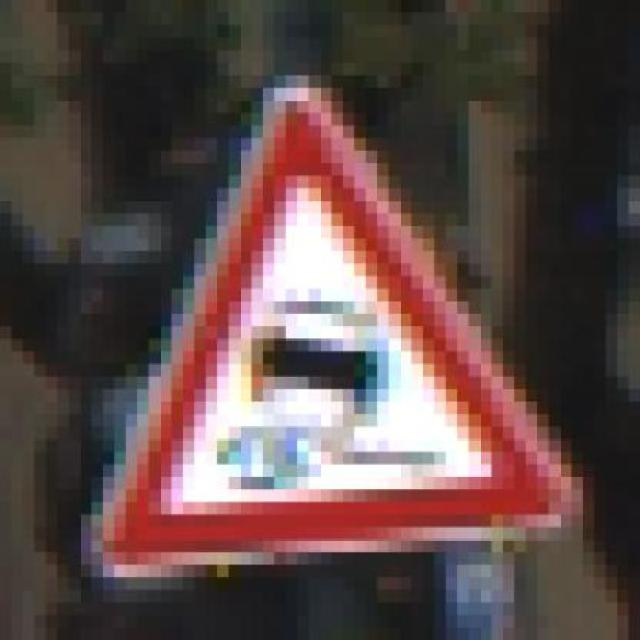Slippery Road Ahead: (68, 62, 594, 578)
